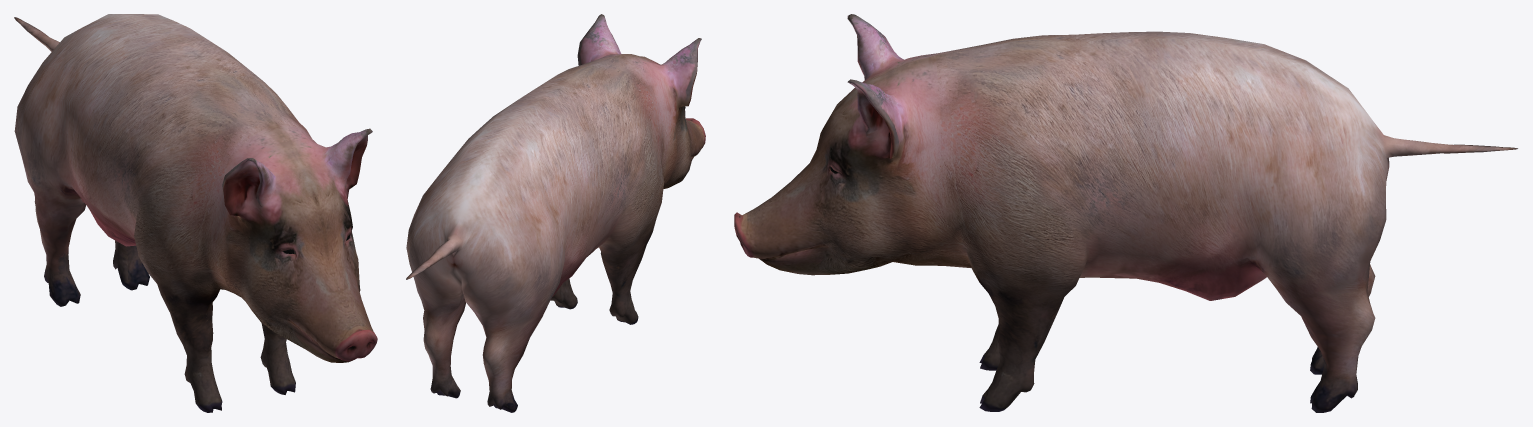
Rendered from real_pig.glb.
The picture shows the model from 3 angles, left to right: view 1: azimuth 30°, elevation 25°; view 2: azimuth 150°, elevation 25°; view 3: azimuth 270°, elevation 25°; orthographic projection. The views are drawn at different scales.
Parts seen in each view (by area): view 1: sm_1_0_0_1; view 2: sm_1_0_0_1; view 3: sm_1_0_0_1.
Part boxes in pixels (x1=…): sm_1_0_0_1: x1=14, y1=14, x2=377, y2=412; sm_1_0_0_1: x1=406, y1=14, x2=705, y2=412; sm_1_0_0_1: x1=734, y1=14, x2=1517, y2=412.
Size of the model in its own units: 0.4192 by 0.7371 by 1.5.
Materials: 2 (2 with a texture image).
